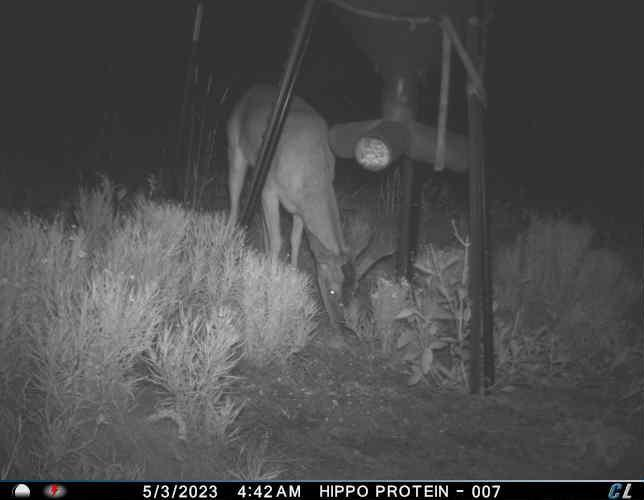Deer: (222, 79, 386, 333)
